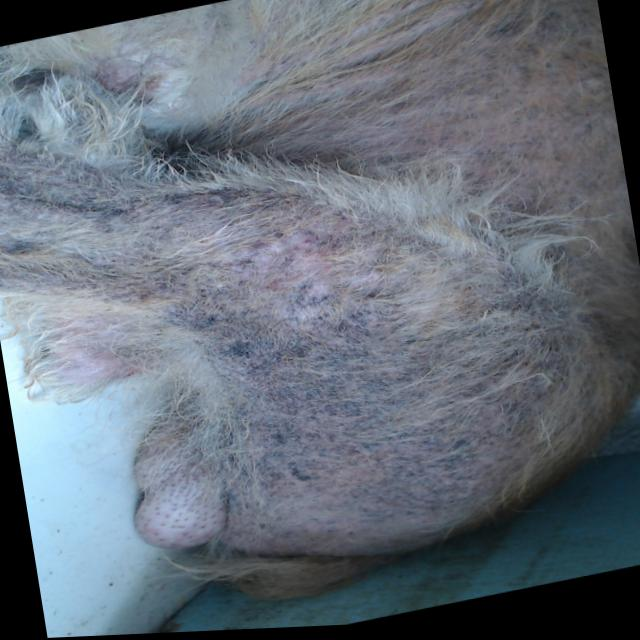demodicosis: (185, 202, 510, 564), (0, 153, 147, 287), (332, 61, 471, 170)
